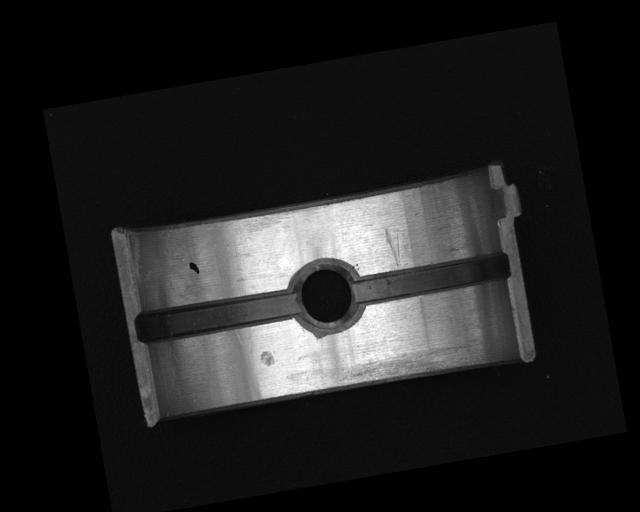blot: (188, 260, 200, 276)
bruise: (257, 348, 276, 368)
gap: (133, 285, 304, 346), (354, 250, 512, 307)
hole: (287, 253, 368, 338)
nick: (381, 223, 406, 272)
scratch: (329, 339, 481, 391)
